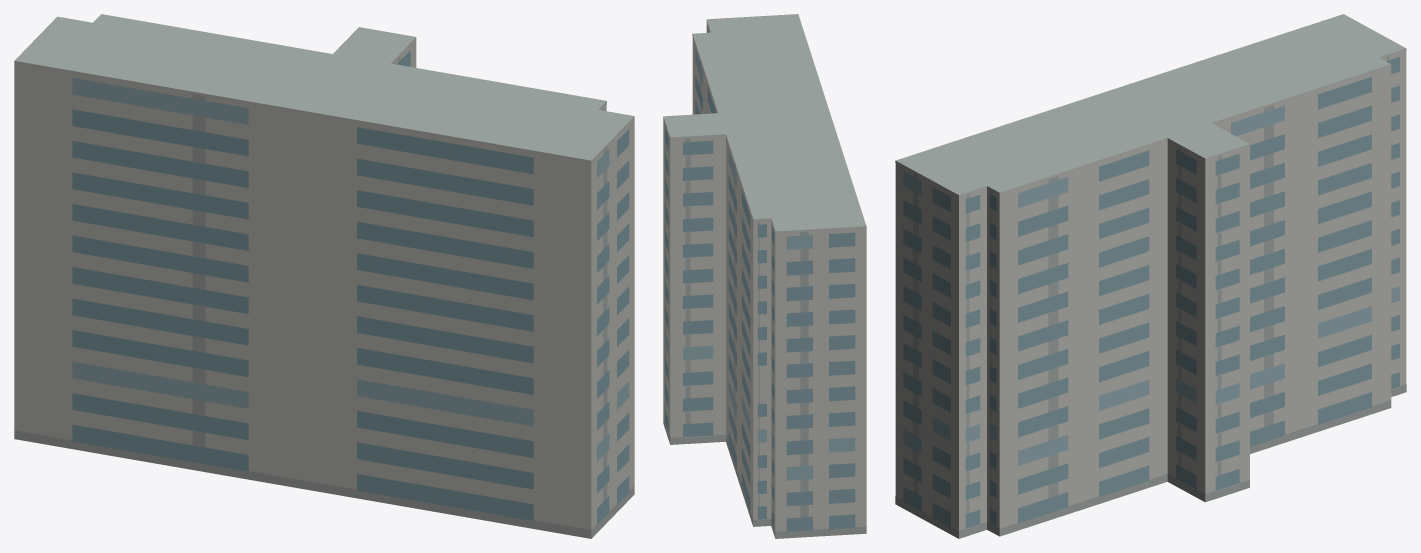
File: residential-f5f554f0-7ed7-4191-98df-73458cbd6a8a.glb
3 views of the same model, side by side, from view 1: azimuth 30°, elevation 25°; view 2: azimuth 150°, elevation 25°; view 3: azimuth 270°, elevation 25° (orthographic). The views are drawn at different scales.
Visible parts, largest first — view 1: residential-f5f554f0-7ed7-4191-98df-73458cbd6a8a.tmp; view 2: residential-f5f554f0-7ed7-4191-98df-73458cbd6a8a.tmp; view 3: residential-f5f554f0-7ed7-4191-98df-73458cbd6a8a.tmp.
Part boxes in pixels (x1=…): residential-f5f554f0-7ed7-4191-98df-73458cbd6a8a.tmp: x1=14, y1=14, x2=634, y2=538; residential-f5f554f0-7ed7-4191-98df-73458cbd6a8a.tmp: x1=663, y1=14, x2=866, y2=538; residential-f5f554f0-7ed7-4191-98df-73458cbd6a8a.tmp: x1=895, y1=14, x2=1406, y2=538.
Size of the model in its own units: 40.69 by 36 by 48.5.
